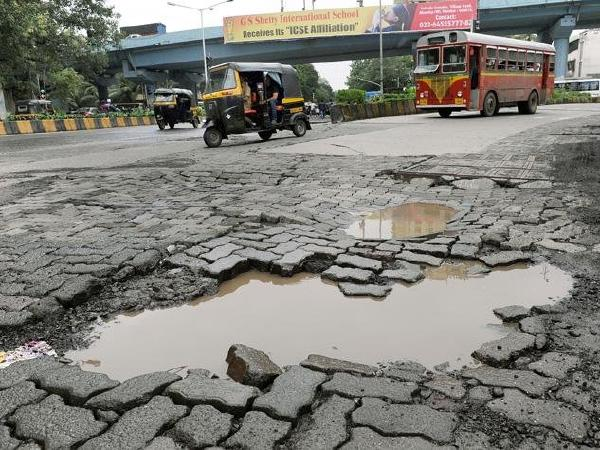pothole: (25, 248, 577, 396), (332, 183, 451, 242)
